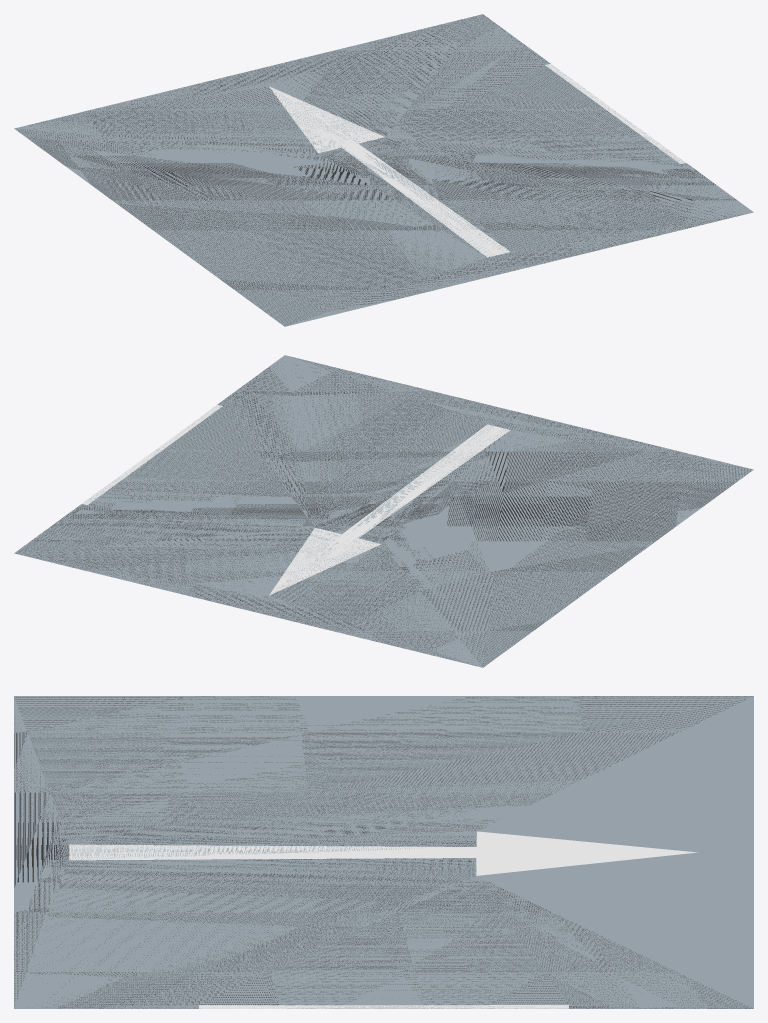
Rendered from lane_side_arrow_left.fbx.
3 renders of one model, top to bottom at view 1: azimuth 30°, elevation 25°; view 2: azimuth 150°, elevation 25°; view 3: azimuth 270°, elevation 25°, orthographic. The views are drawn at different scales.
Parts seen in each view (by area): view 1: Model; view 2: Model; view 3: Model.
Part boxes in pixels (left/top/right/bottom): Model: left=14, top=14, right=753, bottom=326; Model: left=14, top=355, right=753, bottom=667; Model: left=14, top=696, right=753, bottom=1008.
Bounding box in the file's own units: 4 × 0 × 4.
